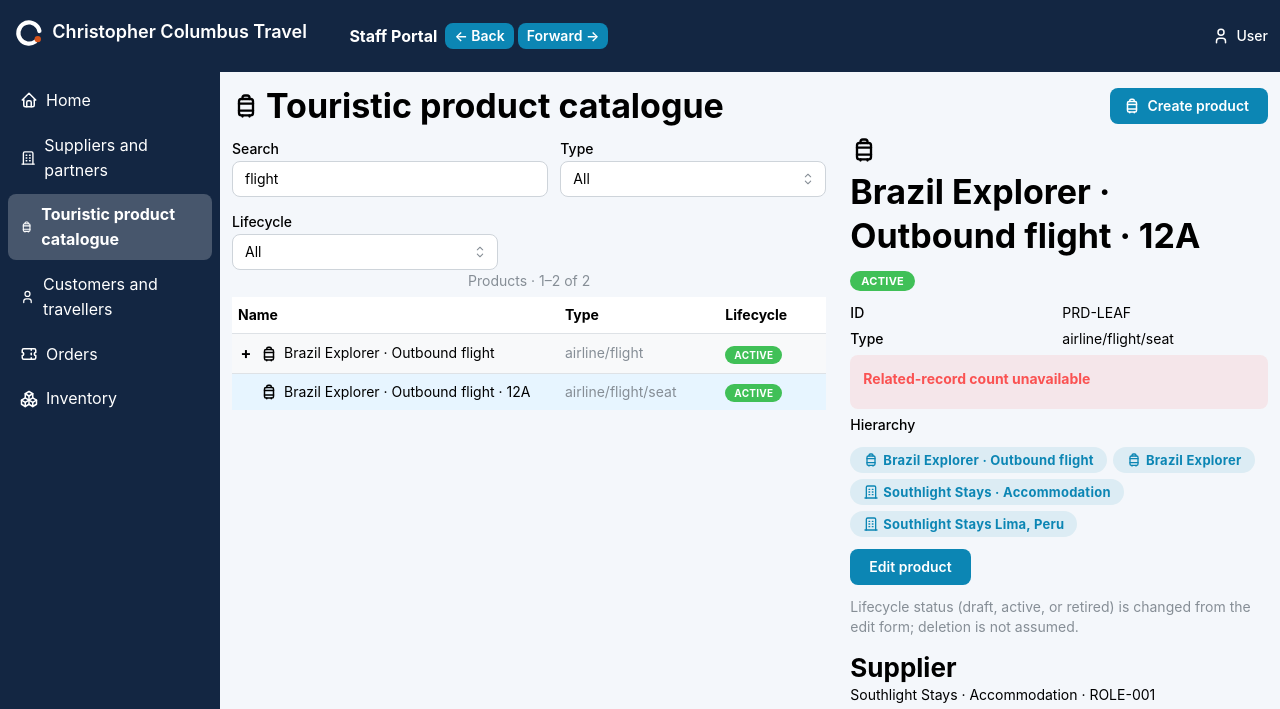
Test case: ProductsRoute (VIEW-S-003 tree view, issue #31 follow-up) › shows ancestor chips parent-first and preserves URL state when navigating to one
Click the link "Brazil Explorer · Outbound flight".
click(979, 460)  # box [850,447,1107,473]
(page scrolled)
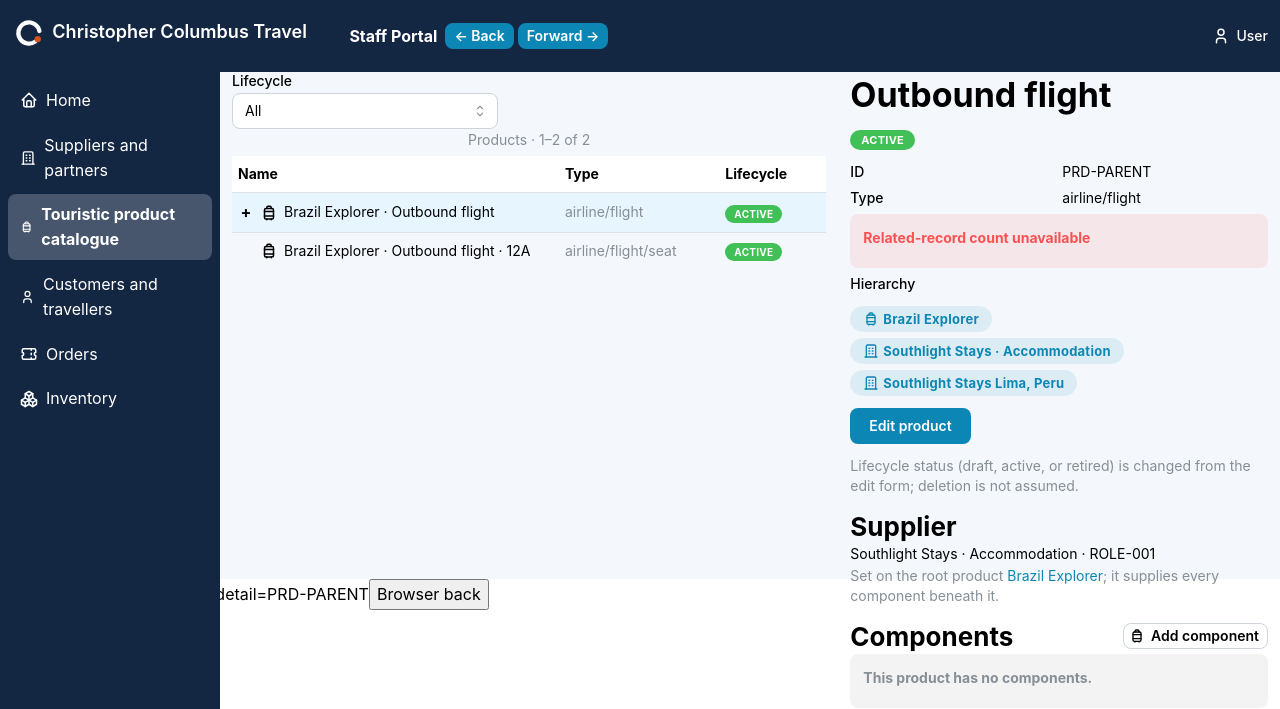
Expected: the text named "Current URL" reads "/products?q=flight&page=1&detail=PRD-PARENT", [0,584,369,604]
